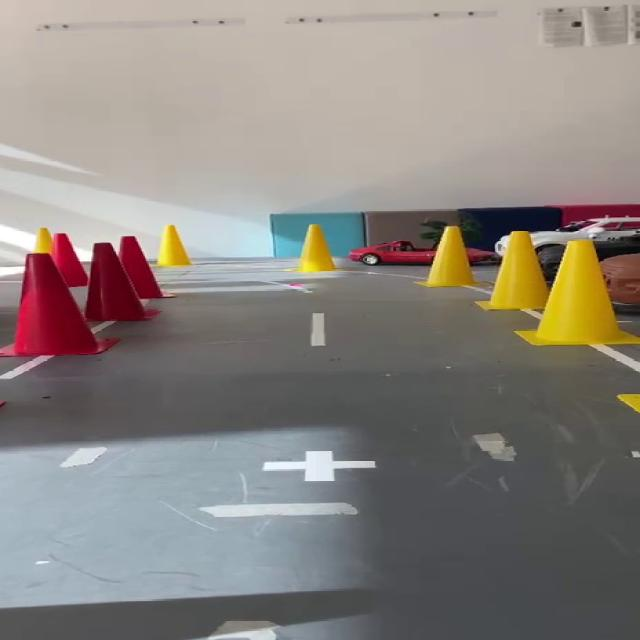Cone-red: (0, 253, 117, 356), (87, 243, 156, 322), (119, 236, 170, 299), (52, 234, 86, 287)
Cones-yellow: (519, 241, 639, 345), (480, 232, 548, 309), (422, 226, 477, 287), (299, 225, 335, 272), (157, 225, 190, 266), (617, 394, 639, 413)
